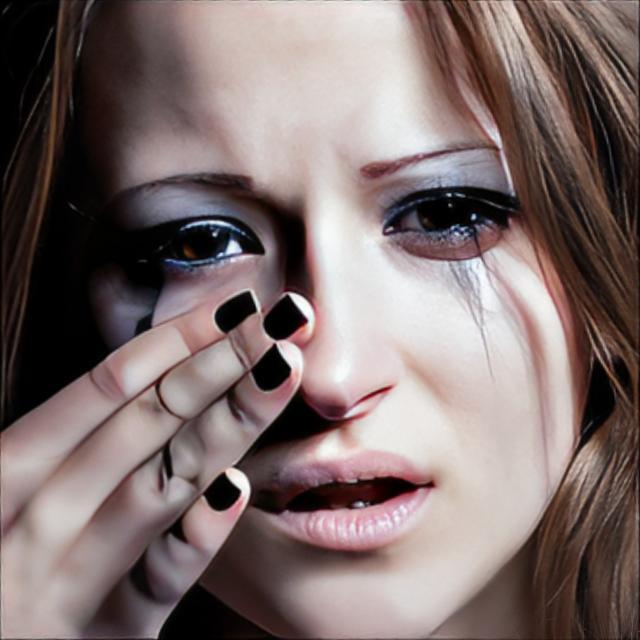sad: (55, 0, 584, 640)
